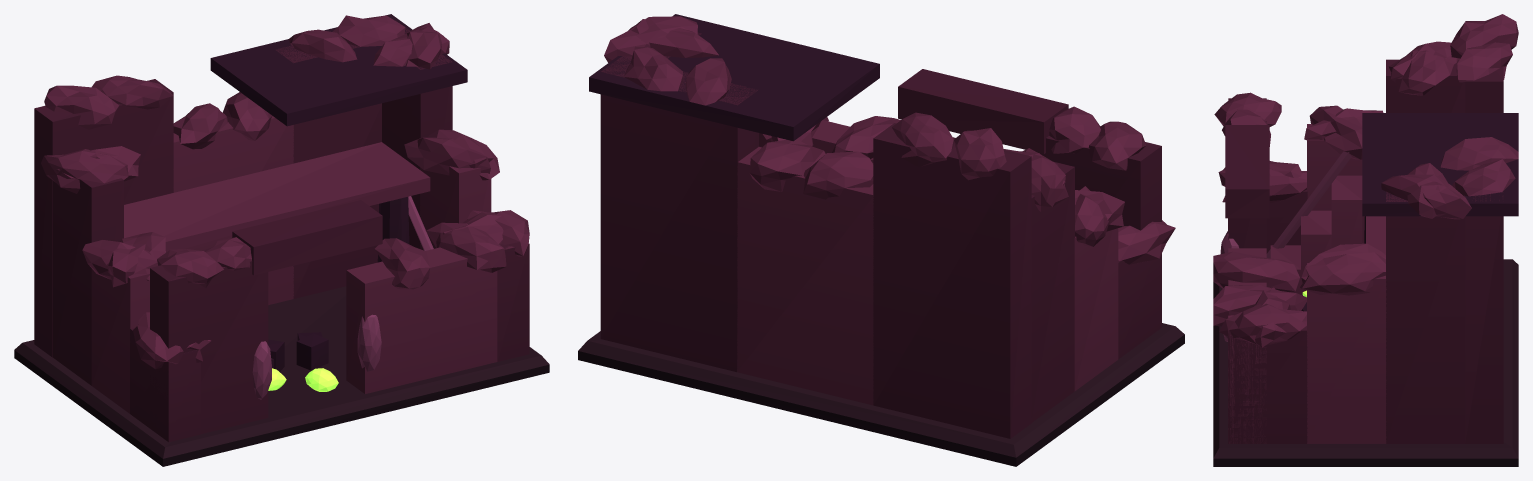
The model's file is creep-hive-hall.glb.
The picture shows the model from 3 angles, left to right: view 1: azimuth 30°, elevation 25°; view 2: azimuth 150°, elevation 25°; view 3: azimuth 270°, elevation 25°; orthographic projection. The views are drawn at different scales.
Size of the model in its own units: 6 by 4 by 4.
